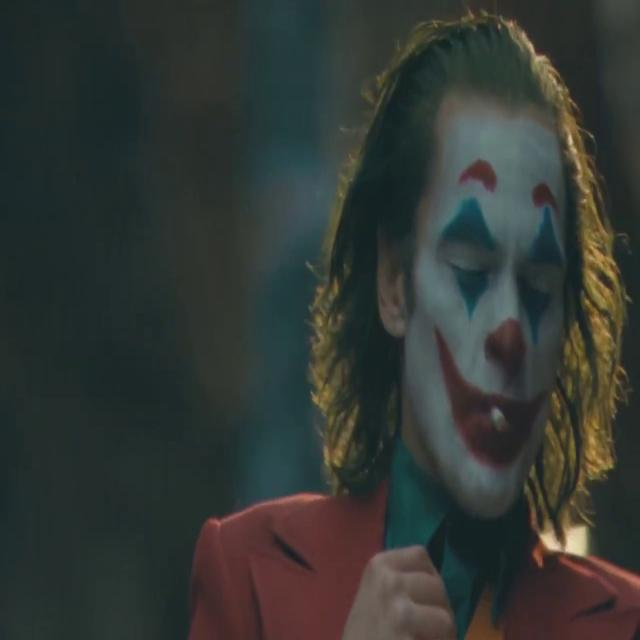Smooking: (482, 402, 511, 439)
